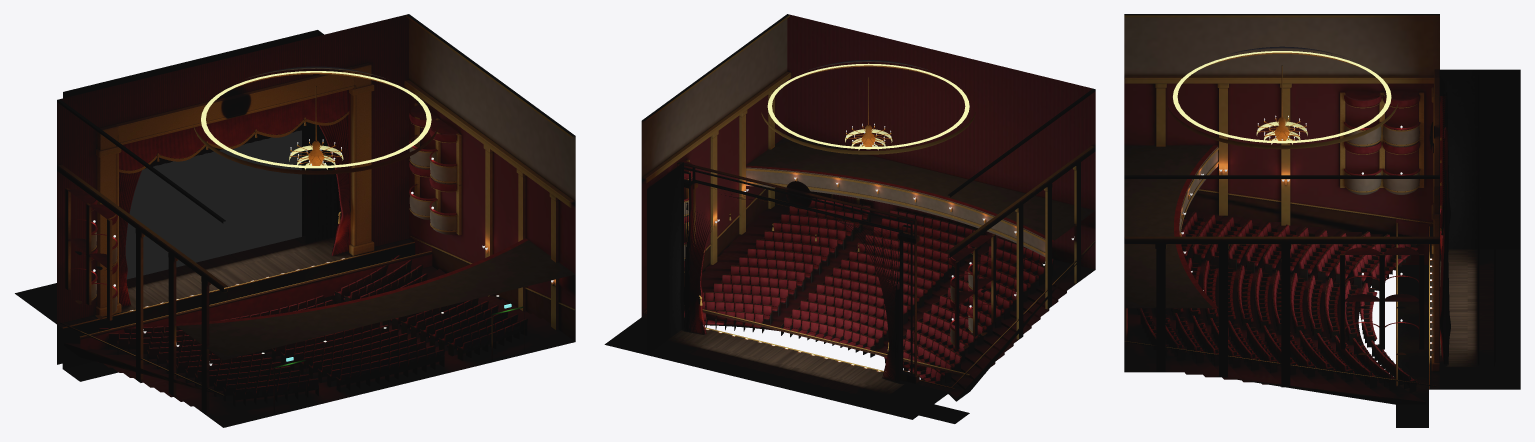
The model's file is performance-theatre.glb.
The picture shows the model from 3 angles, left to right: view 1: azimuth 30°, elevation 25°; view 2: azimuth 150°, elevation 25°; view 3: azimuth 270°, elevation 25°; orthographic projection. The views are drawn at different scales.
Parts seen in each view (by area): view 1: Room, Seats, Screen, Drapes; view 2: Room, Seats, Drapes; view 3: Room, Seats, Drapes.
Part boxes in pixels (bbox=[...]): Room: bbox=[15, 14, 575, 427]; Seats: bbox=[98, 255, 527, 406]; Screen: bbox=[125, 130, 301, 279]; Drapes: bbox=[119, 90, 350, 306]; Room: bbox=[604, 14, 1095, 423]; Seats: bbox=[684, 198, 1053, 384]; Drapes: bbox=[683, 194, 902, 382]; Room: bbox=[1124, 14, 1520, 427]; Seats: bbox=[1137, 211, 1417, 392]; Drapes: bbox=[1440, 92, 1450, 364].
Size of the model in its own units: 21 by 16.9 by 21.6.
4 materials, 3 textured.
